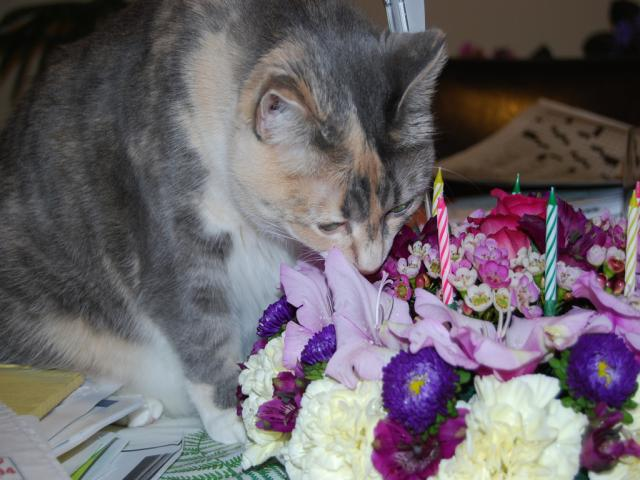Cat: (0, 0, 470, 450)
